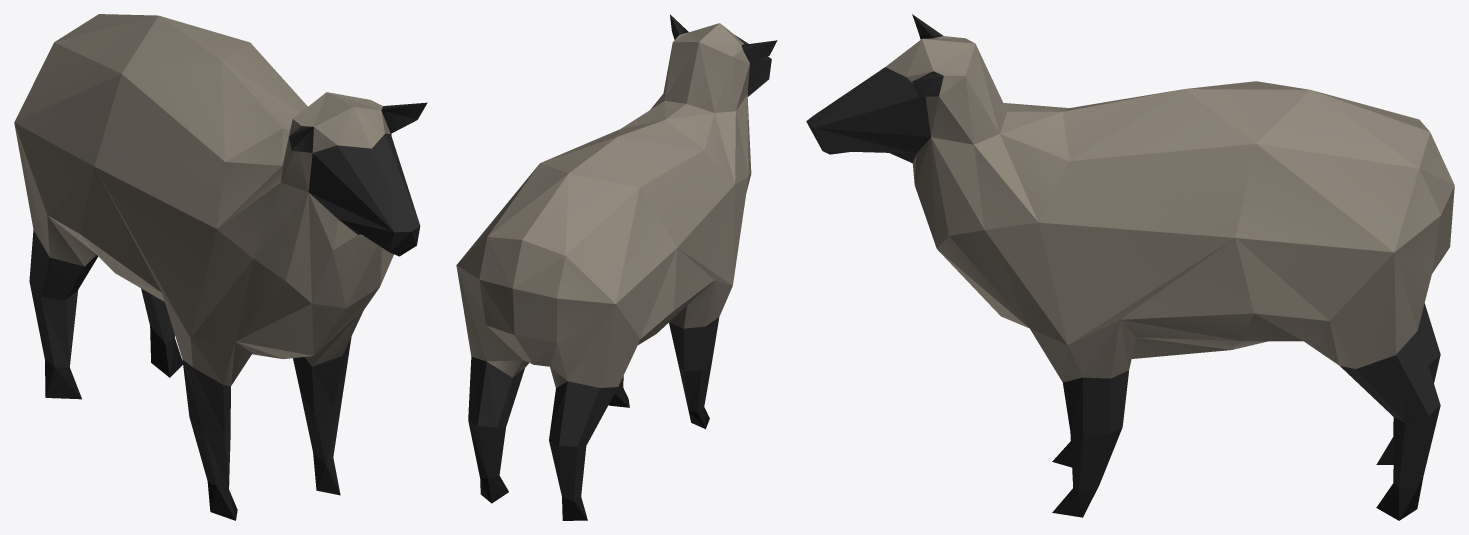
File: sheep_lod1.glb
3 views of the same model, side by side, from view 1: azimuth 30°, elevation 25°; view 2: azimuth 150°, elevation 25°; view 3: azimuth 270°, elevation 25° (orthographic). The views are drawn at different scales.
Parts seen in each view (by area): view 1: sheep; view 2: sheep; view 3: sheep.
Part boxes in pixels (left/top/right/bottom): sheep: left=14, top=14, right=427, bottom=520; sheep: left=456, top=14, right=777, bottom=520; sheep: left=806, top=14, right=1454, bottom=520.
Size of the model in its own units: 0.5227 by 1.05 by 1.37.
